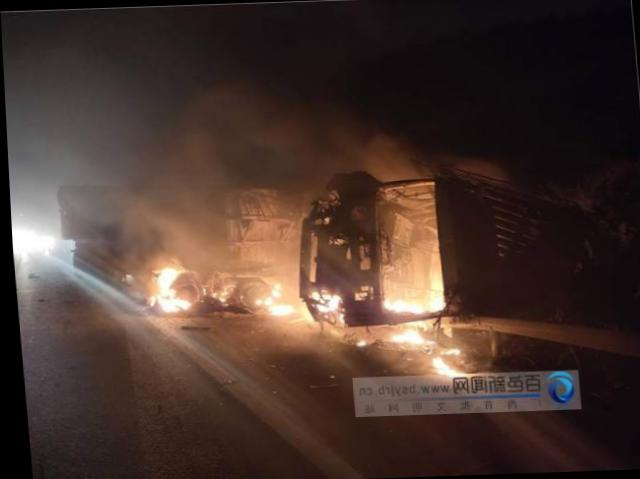fire: (299, 265, 462, 382), (144, 242, 288, 320)
